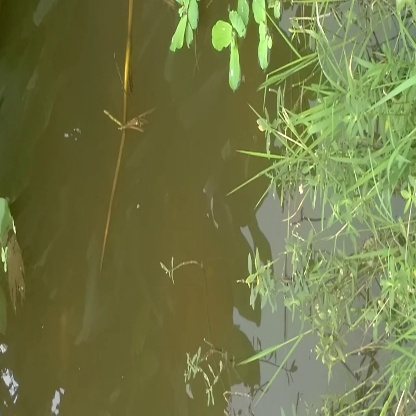branch: (94, 1, 151, 264)
